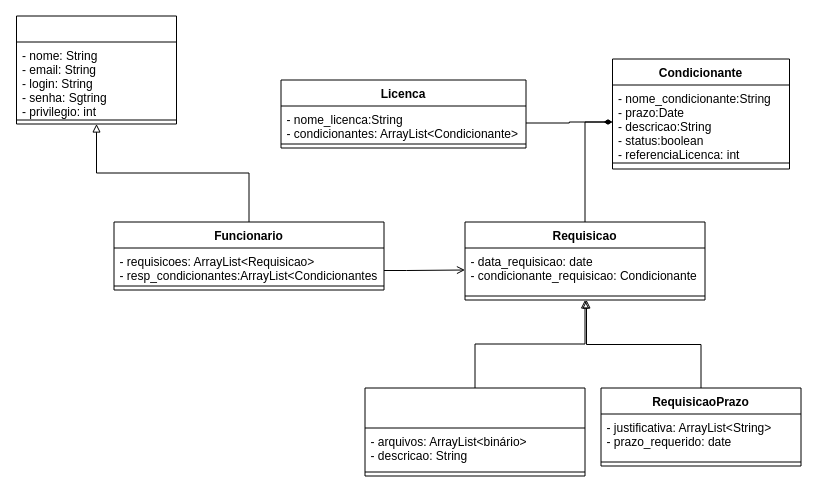
Image size: 817x492. Some labels were removed from this diagram. Here are the shapes that lost their labels. From the top down, the box of each, then its label:
(16, 15, 176, 124): Usuario
(364, 387, 585, 476): RequisicaoConclusaoCondicionante
